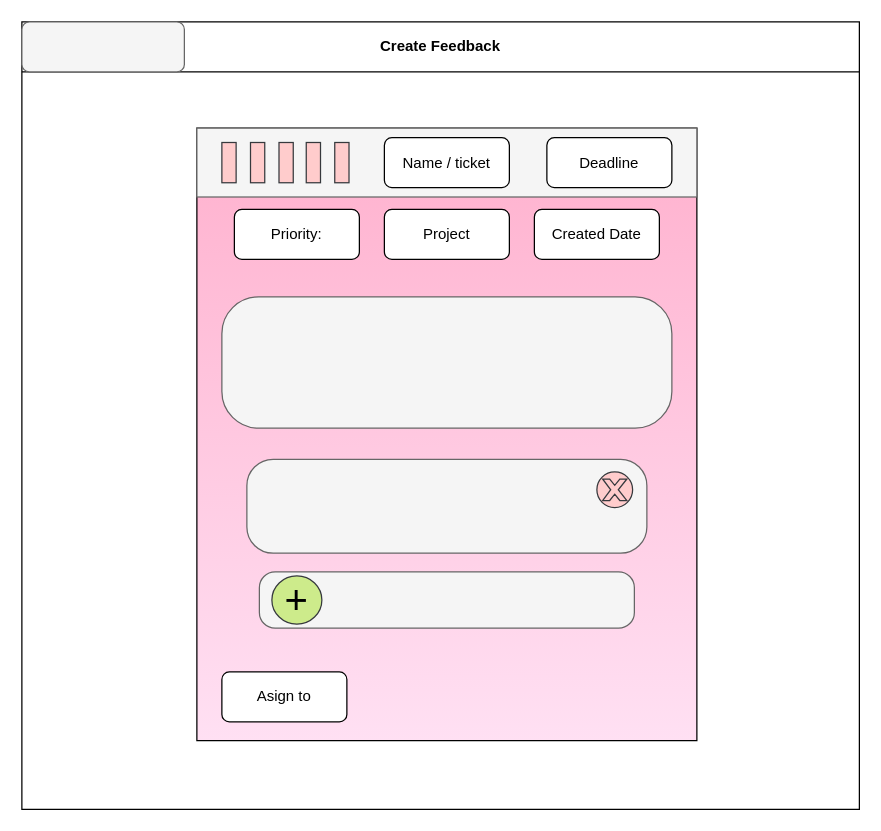
This 881x831 diagram has some shape labels left out. Here are the shapes that lost their labels. From the top down, the box of each, then its label:
(21, 21, 184, 72): Home
(221, 296, 672, 428): Main summary
(246, 458, 647, 553): Sub task
(258, 571, 634, 628): Add sub task
